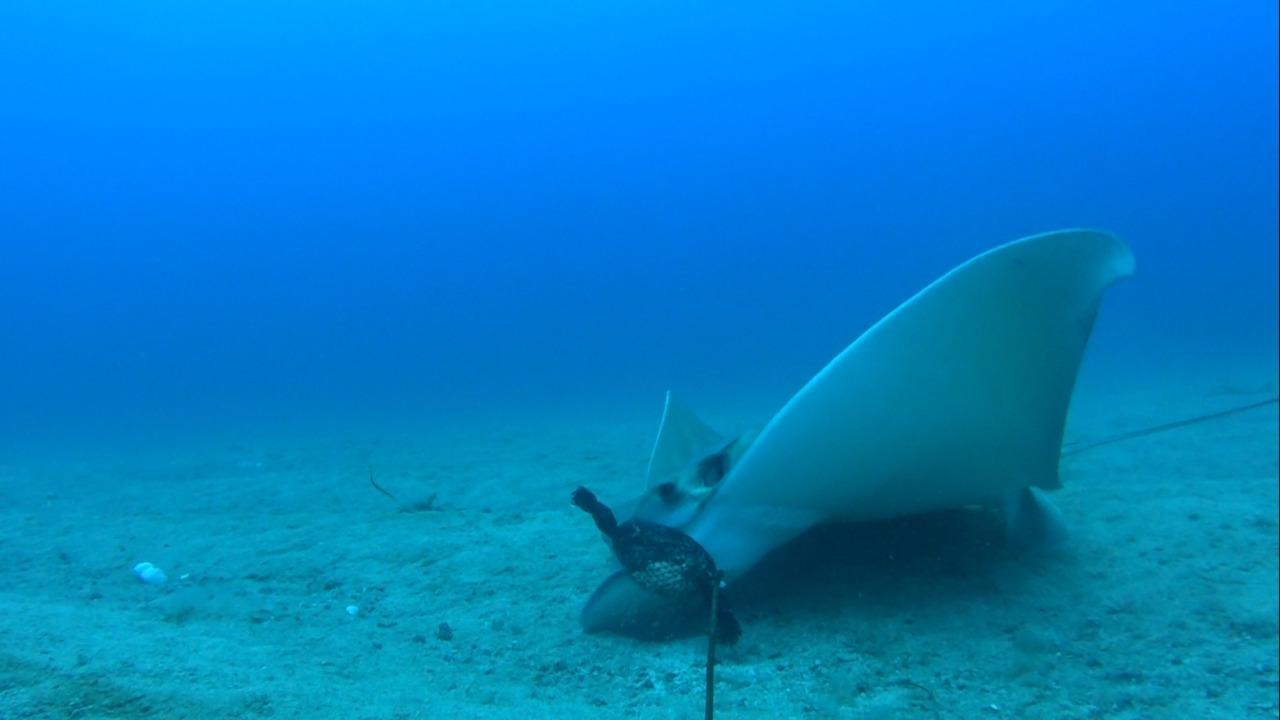myliobatis: (577, 223, 1279, 644)
